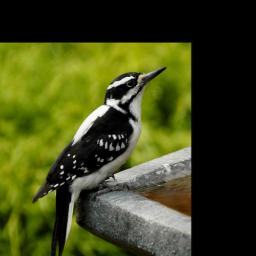Woodpecker: (32, 60, 168, 256)
